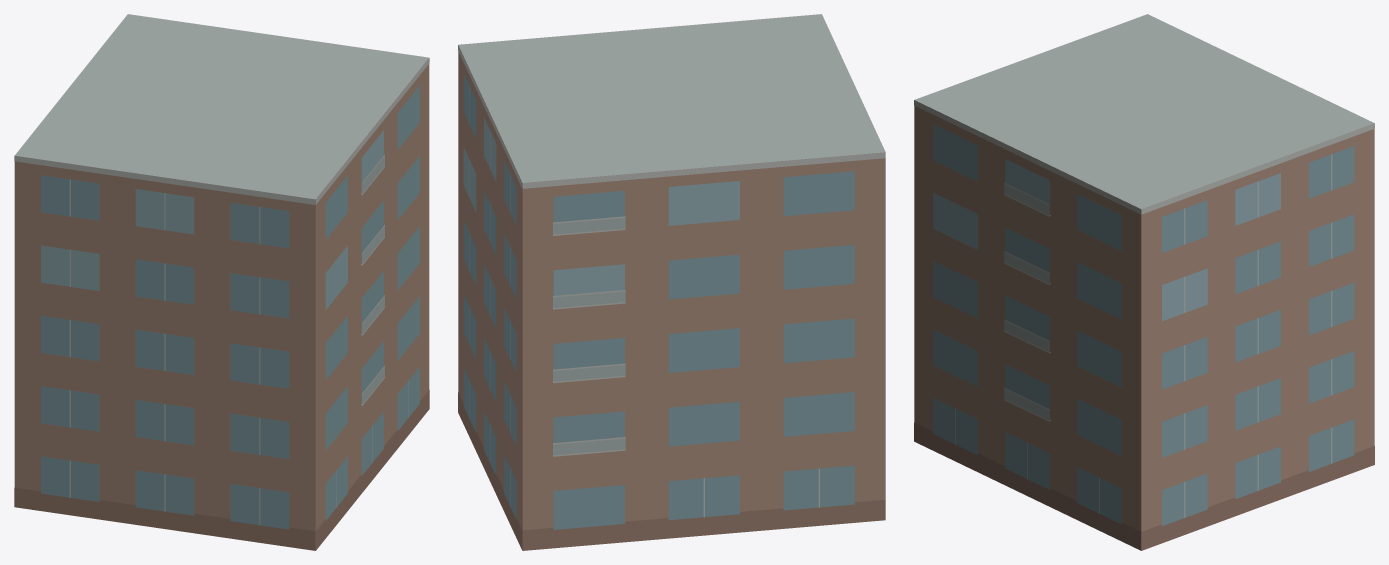
The model's file is survey-upis-33008024.glb.
The picture shows the model from 3 angles, left to right: view 1: azimuth 30°, elevation 25°; view 2: azimuth 150°, elevation 25°; view 3: azimuth 270°, elevation 25°; orthographic projection. The views are drawn at different scales.
Parts seen in each view (by area): view 1: survey-upis-33008024.tmp; view 2: survey-upis-33008024.tmp; view 3: survey-upis-33008024.tmp.
Part boxes in pixels (bbox=[...]): survey-upis-33008024.tmp: bbox=[14, 14, 429, 550]; survey-upis-33008024.tmp: bbox=[458, 14, 885, 550]; survey-upis-33008024.tmp: bbox=[914, 14, 1374, 550].
Bounding box in the file's own units: 18.7 × 15.25 × 18.64.
